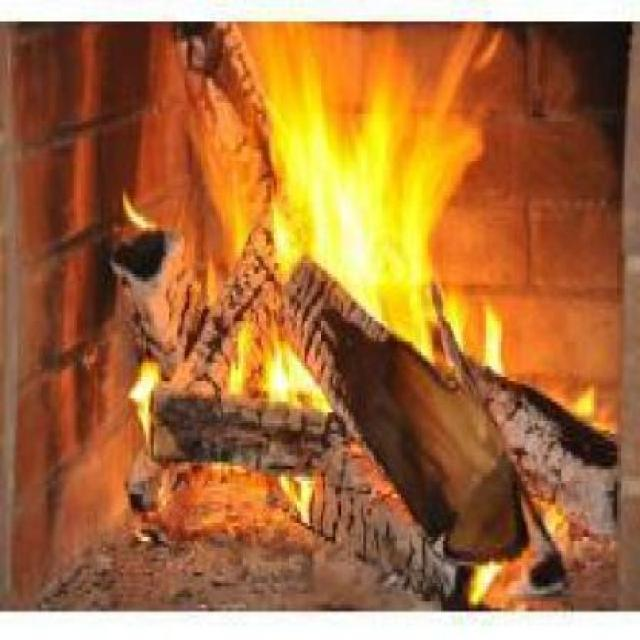Fire: (120, 21, 622, 524), (446, 528, 542, 608)
